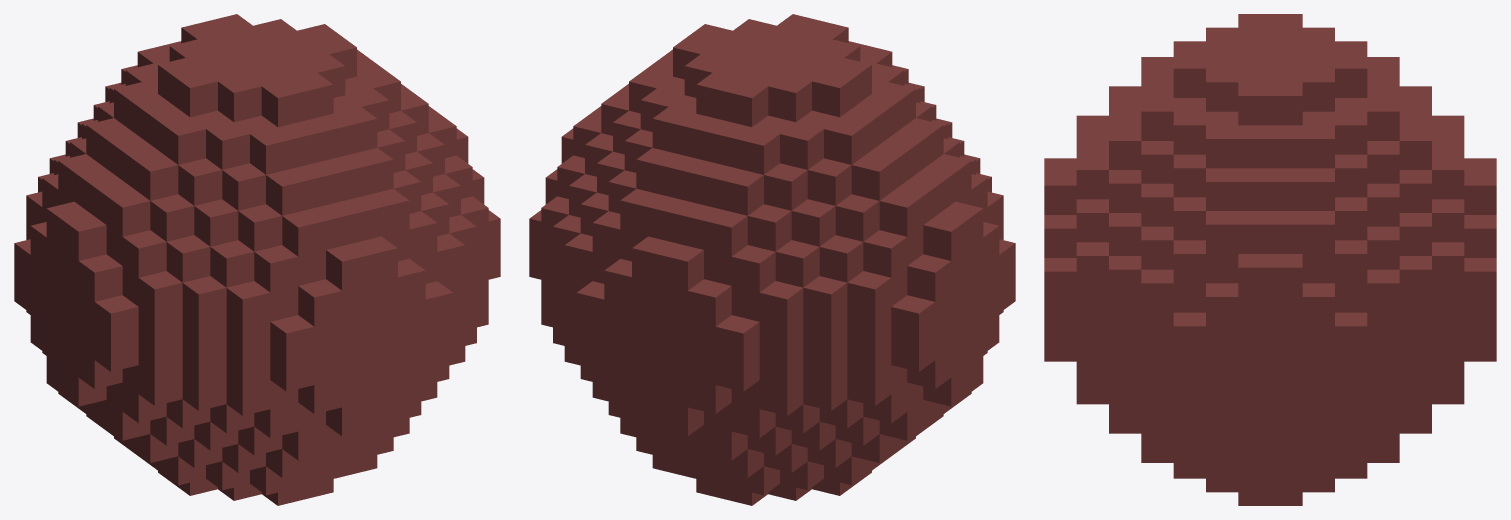
File: coconutimplode.obj
The picture shows the model from 3 angles, left to right: view 1: azimuth 30°, elevation 25°; view 2: azimuth 150°, elevation 25°; view 3: azimuth 270°, elevation 25°; orthographic projection.
Size of the model in its own units: 14 by 14 by 14.
1 material, 1 textured.
